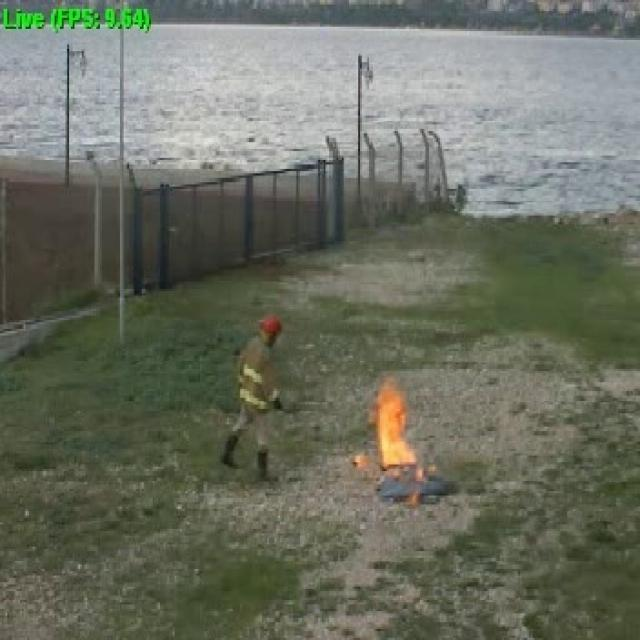fire: (372, 379, 412, 472)
